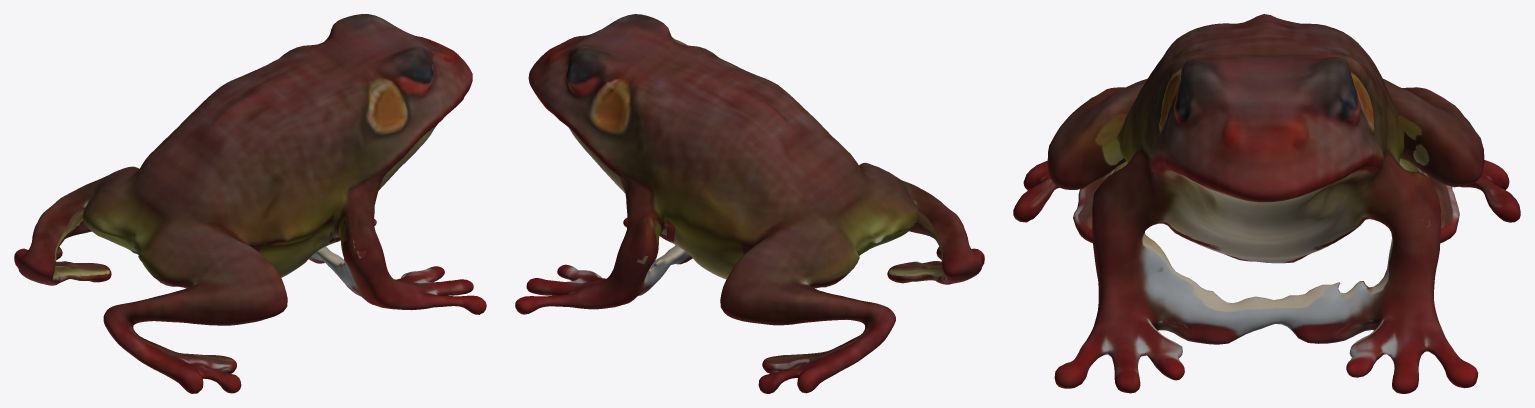
File: 691232f5448c_A_frog_that_spits_o.fbx
The picture shows the model from 3 angles, left to right: view 1: azimuth 30°, elevation 25°; view 2: azimuth 150°, elevation 25°; view 3: azimuth 270°, elevation 25°; orthographic projection. The views are drawn at different scales.
Parts seen in each view (by area): view 1: mesh; view 2: mesh; view 3: mesh.
Boxes of the visible parts, x1,y1,x2,y2 form: mesh: (14,14,486,393); mesh: (515,14,984,393); mesh: (1013,14,1520,393).
Bounding box in the file's own units: 99.87 × 56.94 × 80.93.
1 material, 1 textured.
